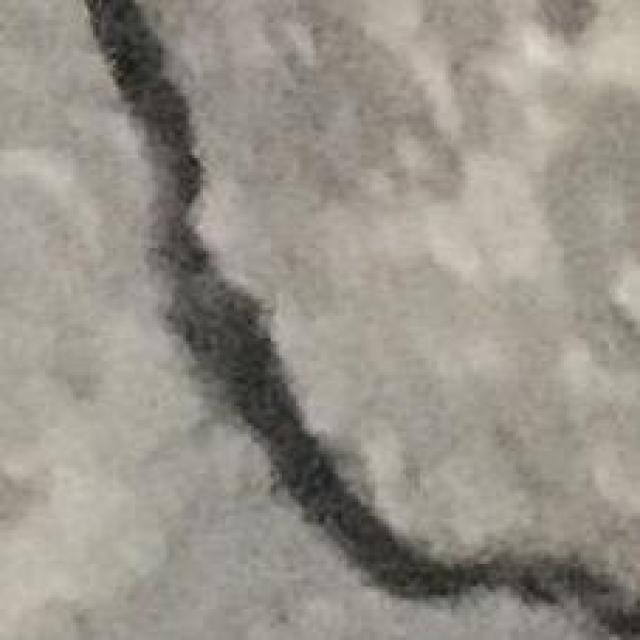Crack: (85, 0, 637, 637)
